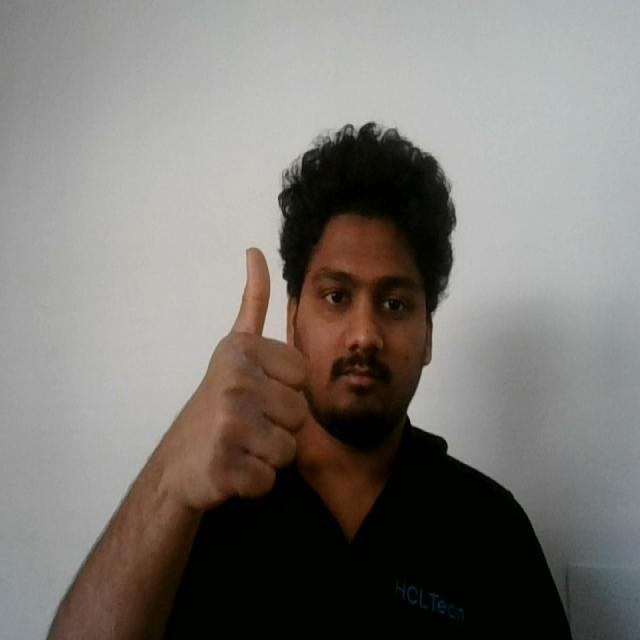Yes: (151, 240, 313, 515)
